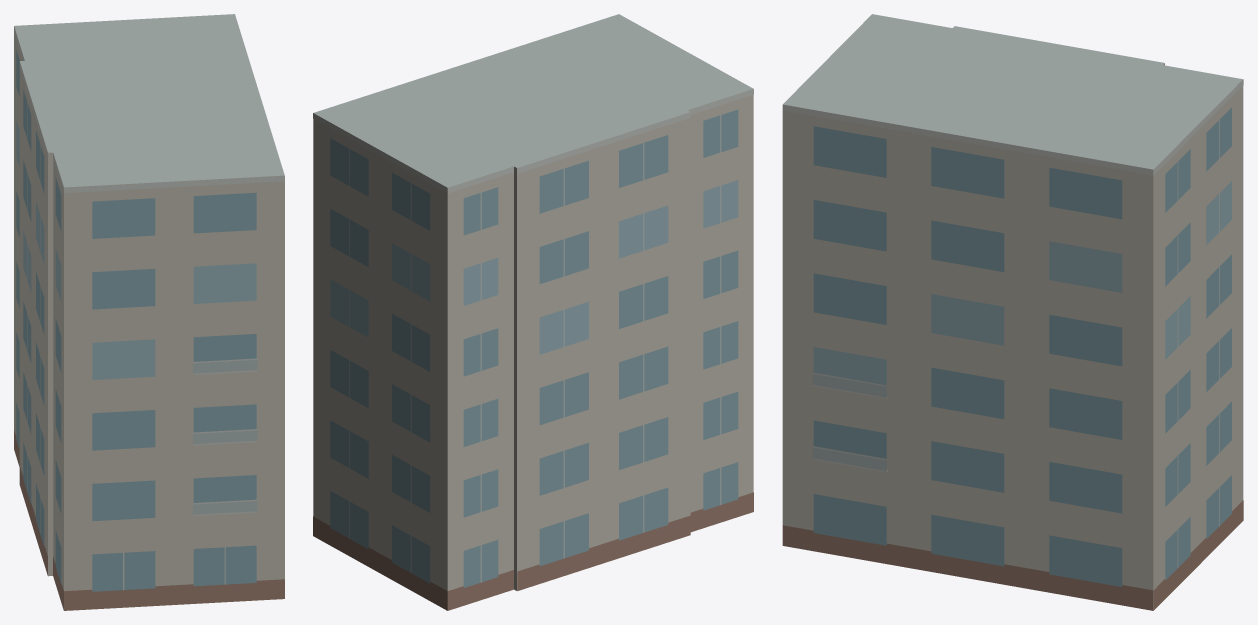
Rendered from survey-upis-32652986.glb.
3 renders of one model, left to right at view 1: azimuth 30°, elevation 25°; view 2: azimuth 150°, elevation 25°; view 3: azimuth 270°, elevation 25°, orthographic. The views are drawn at different scales.
Parts seen in each view (by area): view 1: survey-upis-32652986.tmp; view 2: survey-upis-32652986.tmp; view 3: survey-upis-32652986.tmp.
Part boxes in pixels (x1,y1,x2,y2): survey-upis-32652986.tmp: [14, 14, 284, 610]; survey-upis-32652986.tmp: [313, 14, 753, 610]; survey-upis-32652986.tmp: [782, 14, 1243, 610].
Bounding box in the file's own units: 13.62 × 18 × 17.04.
